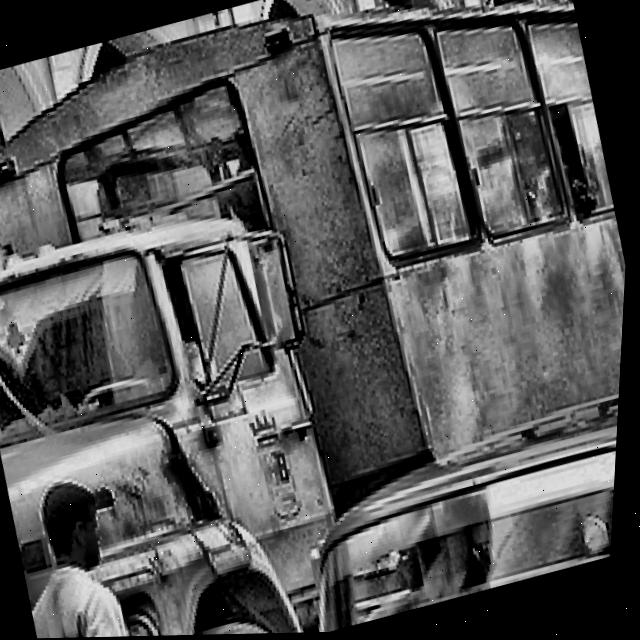light_vehicle: (22, 386, 624, 639)
